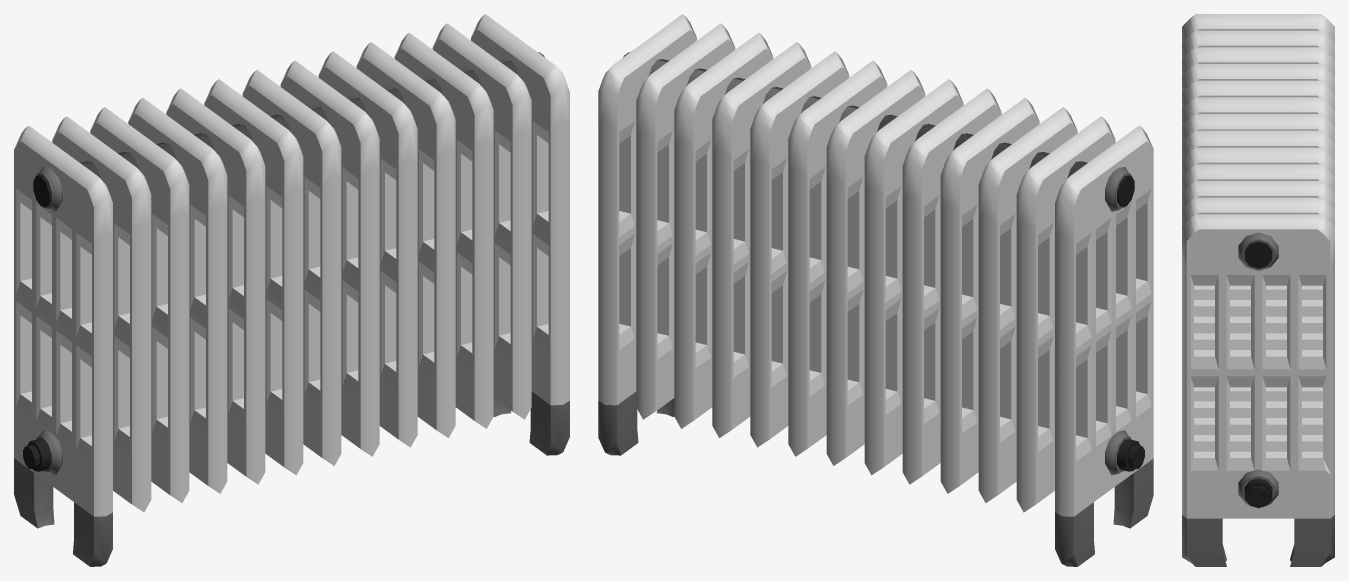
Rendered from RadiatorModel.fbx.
3 views of the same model, side by side, from view 1: azimuth 30°, elevation 25°; view 2: azimuth 150°, elevation 25°; view 3: azimuth 270°, elevation 25° (orthographic). The views are drawn at different scales.
Visible parts, largest first — view 1: RadiatorModel; view 2: RadiatorModel; view 3: RadiatorModel.
Boxes of the visible parts, left/top/right/bottom form: RadiatorModel: left=14, top=14, right=569, bottom=566; RadiatorModel: left=598, top=14, right=1153, bottom=566; RadiatorModel: left=1182, top=14, right=1334, bottom=566.
Size of the model in its own units: 164 by 116 by 45.9.
